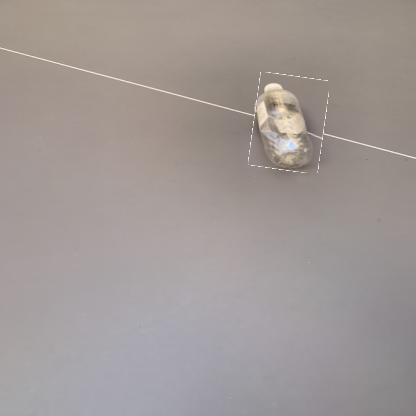plastic-bottles: (252, 75, 328, 173)
